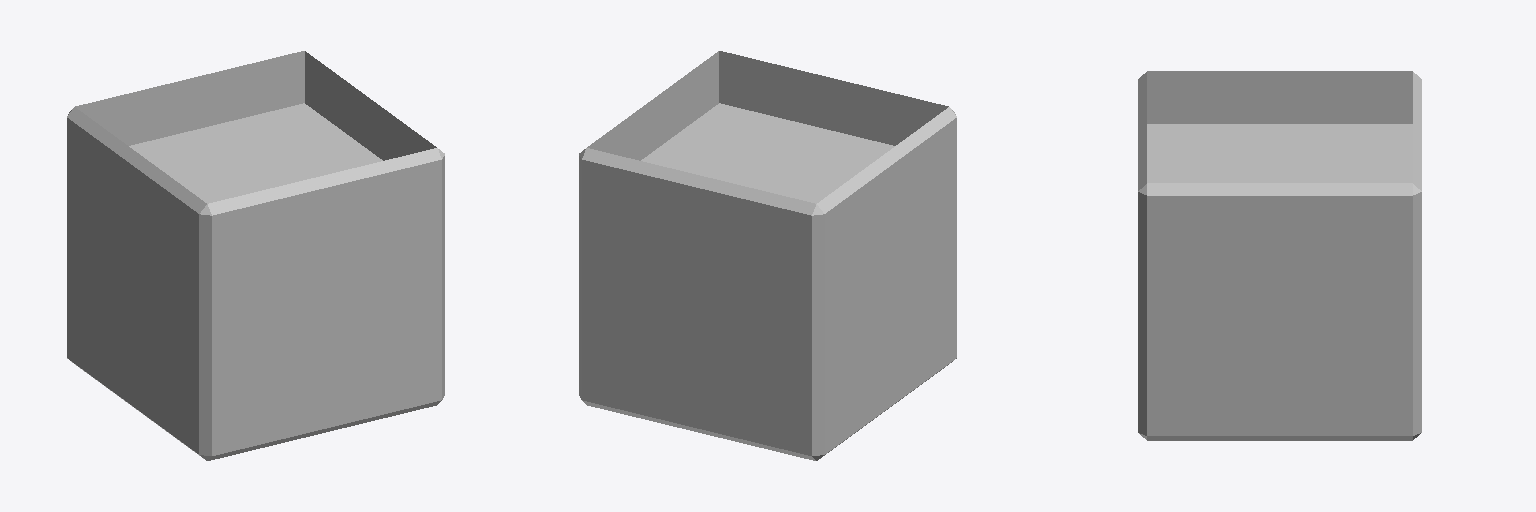
The model's file is weird.obj.
The picture shows the model from 3 angles: view 1: azimuth 30°, elevation 25°; view 2: azimuth 150°, elevation 25°; view 3: azimuth 270°, elevation 25°; orthographic projection.
Parts seen in each view (by area): view 1: Cube; view 2: Cube; view 3: Cube.
Boxes of the visible parts, <box> form: Cube: <box>67,51,444,460</box>; Cube: <box>579,51,956,460</box>; Cube: <box>1138,71,1421,440</box>.
Bounding box in the file's own units: 24 × 24 × 24.